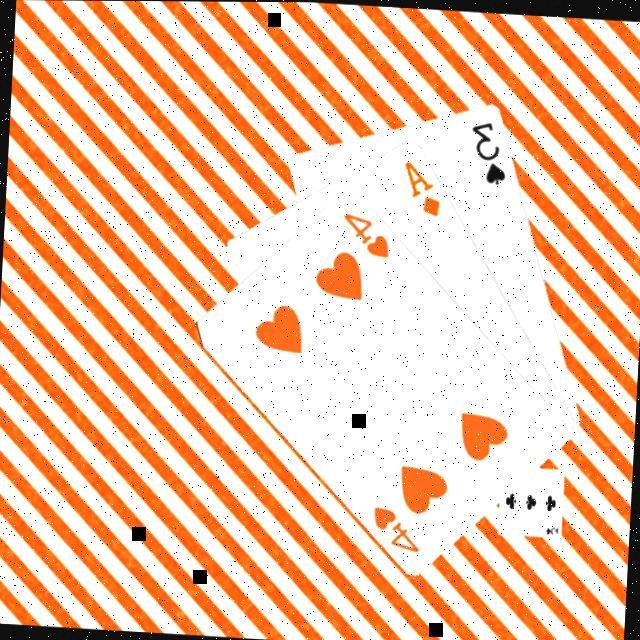3S: (467, 116, 515, 188)
4H: (338, 208, 396, 262), (369, 502, 427, 556)
AD: (399, 157, 448, 220)
